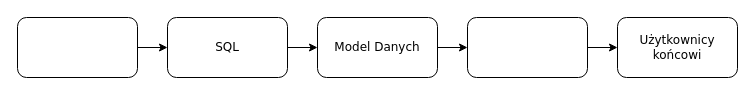
The diagram is 755 pixels wide and 95 high, and some of its shapes have lost their labels. Each missing label, with the centre of its shape:
Raport Power BI: (527,47)
Źródła danych: (77,47)
